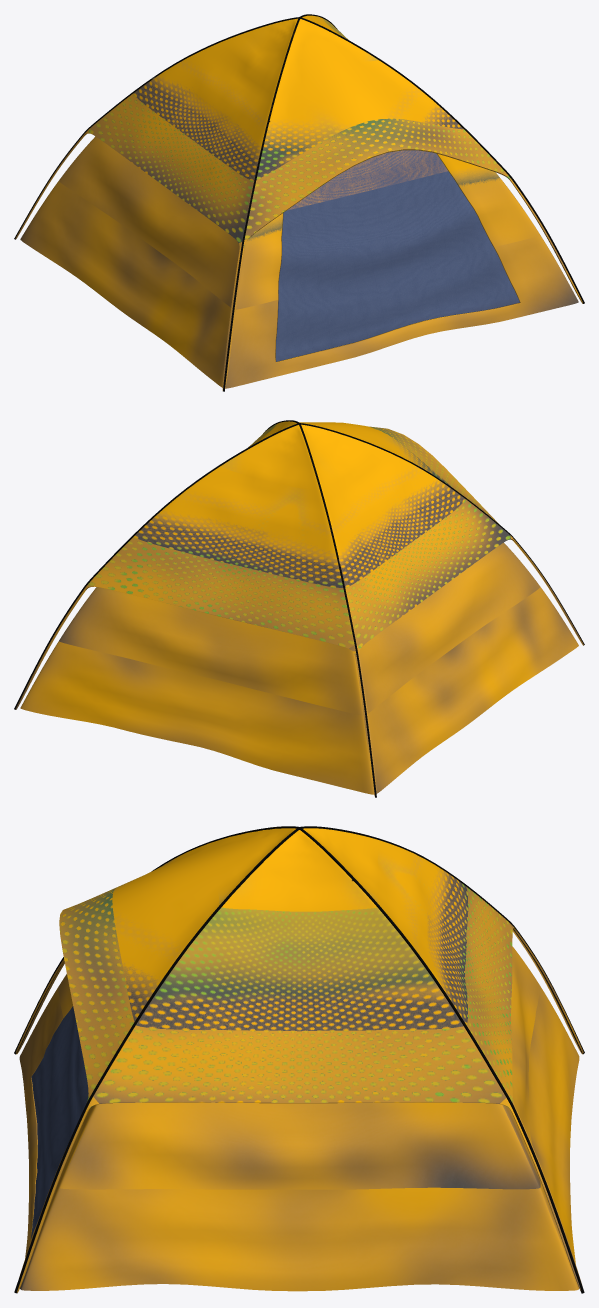
File: modern_camping_tent_(OBJ).obj
The picture shows the model from 3 angles, top to bottom: view 1: azimuth 30°, elevation 25°; view 2: azimuth 150°, elevation 25°; view 3: azimuth 270°, elevation 25°; orthographic projection. The views are drawn at different scales.
Visible parts, largest first — view 1: modern_camping_tent; view 2: modern_camping_tent; view 3: modern_camping_tent.
Boxes of the visible parts, <box> form: modern_camping_tent: <box>14,14,584,391</box>; modern_camping_tent: <box>14,420,584,797</box>; modern_camping_tent: <box>14,826,584,1293</box>.
Bounding box in the file's own units: 1.76 × 1.19 × 1.76.
Materials: 1 (1 with a texture image).
